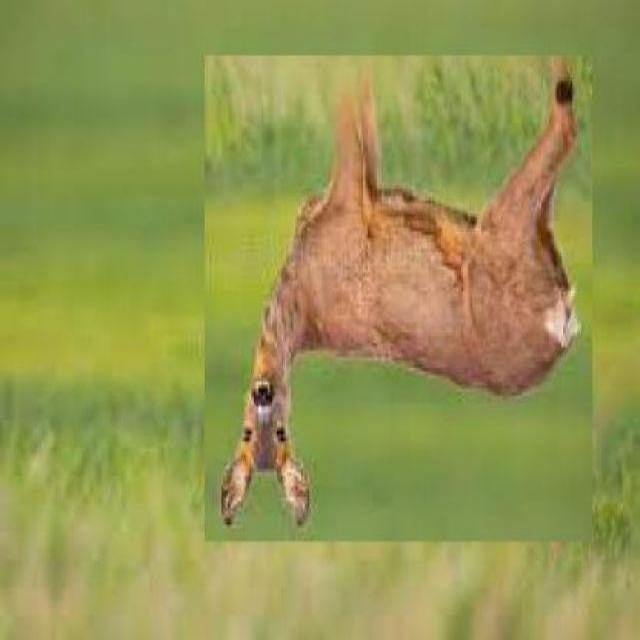deer: (204, 55, 594, 542)
